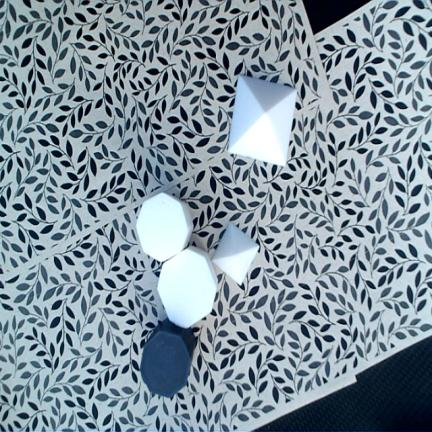Piramide: (228, 74, 297, 167), (210, 221, 260, 286)
Prisma_hexagonal: (157, 245, 218, 328), (140, 319, 197, 397), (136, 193, 194, 262)
